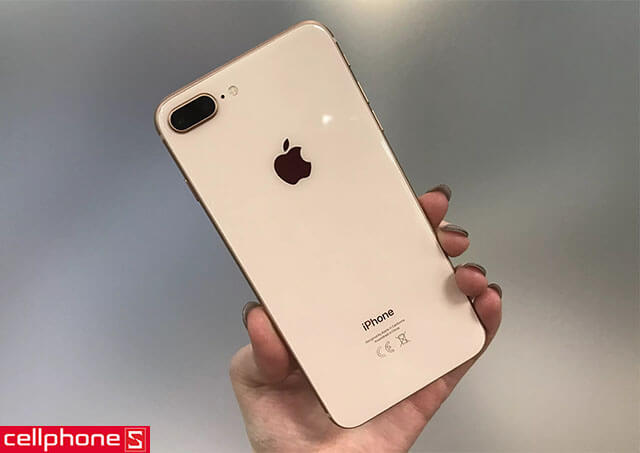apple: (261, 131, 333, 197)
